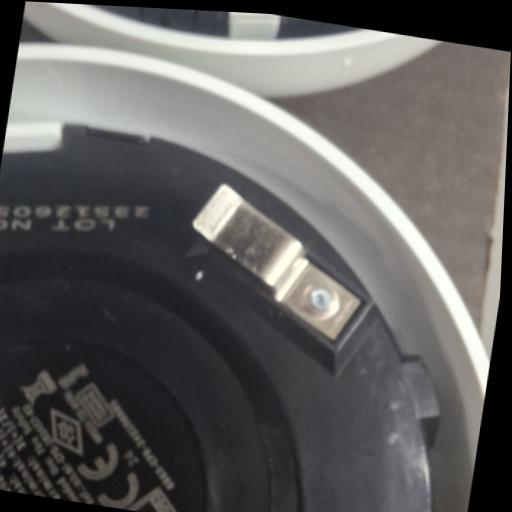yaysiz: (175, 177, 380, 347)
